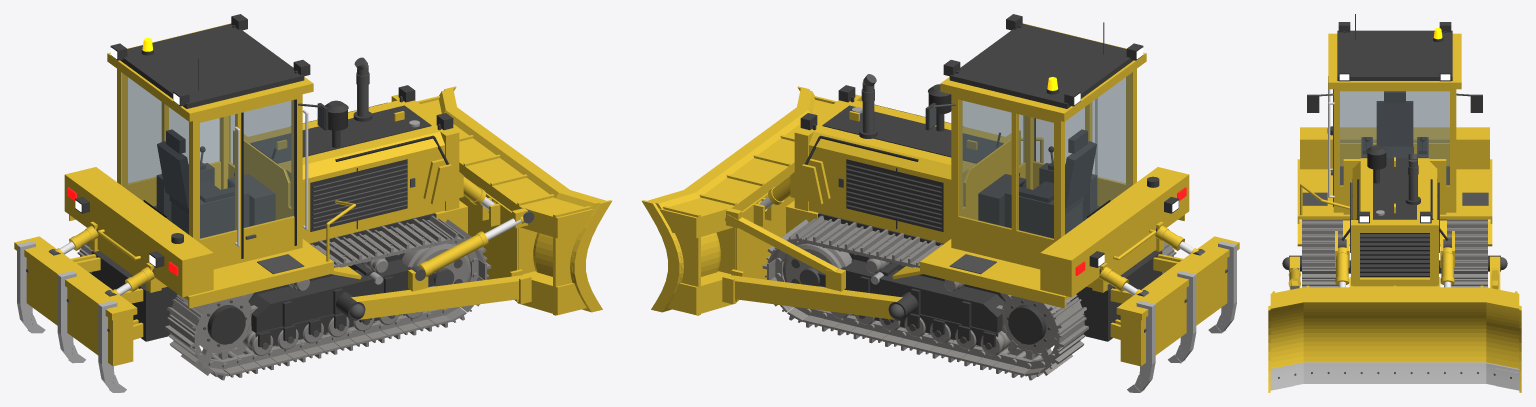
File: crawler_dozer.glb
3 renders of one model, left to right at view 1: azimuth 30°, elevation 25°; view 2: azimuth 150°, elevation 25°; view 3: azimuth 270°, elevation 25°, orthographic. The views are drawn at different scales.
Visible parts, largest first — view 1: cab, body, blade_tilt, track_right, ripper_frame_tilt, undercarriage_right, push_frame_tilt, ripper_mount, sprocket_right_spin, idler_right_spin, blade_tilt_cylinder_rotate; view 2: body, cab, blade_tilt, track_left, ripper_frame_tilt, undercarriage_left, push_frame_tilt, ripper_mount, sprocket_left_spin, idler_left_spin; view 3: blade_tilt, body, cab, track_right, track_left, push_frame_tilt, blade_lift_cylinder_right_rotate, blade_lift_cylinder_left_rotate.
Part boxes in pixels (x1,y1,x2,y2): cab: (107, 14, 328, 269); body: (64, 57, 467, 320); blade_tilt: (417, 86, 612, 315); track_right: (165, 215, 491, 380); ripper_frame_tilt: (14, 236, 143, 392); undercarriage_right: (249, 259, 436, 349); push_frame_tilt: (349, 269, 524, 319); ripper_mount: (90, 221, 175, 341); sprocket_right_spin: (197, 293, 257, 359); idler_right_spin: (401, 243, 470, 287); blade_tilt_cylinder_rotate: (411, 231, 488, 280); body: (786, 74, 1189, 320); cab: (925, 14, 1146, 269); blade_tilt: (641, 86, 836, 315); track_left: (762, 215, 1088, 380); ripper_frame_tilt: (1110, 236, 1239, 392); undercarriage_left: (817, 259, 1004, 349); push_frame_tilt: (725, 214, 904, 319); ripper_mount: (1078, 221, 1163, 341); sprocket_left_spin: (996, 293, 1056, 359); idler_left_spin: (783, 243, 852, 287); blade_tilt: (1268, 280, 1521, 392); body: (1289, 126, 1500, 287); cab: (1307, 14, 1482, 214); track_right: (1302, 219, 1342, 287); track_left: (1447, 219, 1487, 287); push_frame_tilt: (1282, 256, 1507, 289); blade_lift_cylinder_right_rotate: (1335, 239, 1349, 284); blade_lift_cylinder_left_rotate: (1440, 239, 1454, 284).
Size of the model in its own units: 6.06 by 3.64 by 3.46.
Materials: 15 (15 with a texture image).
